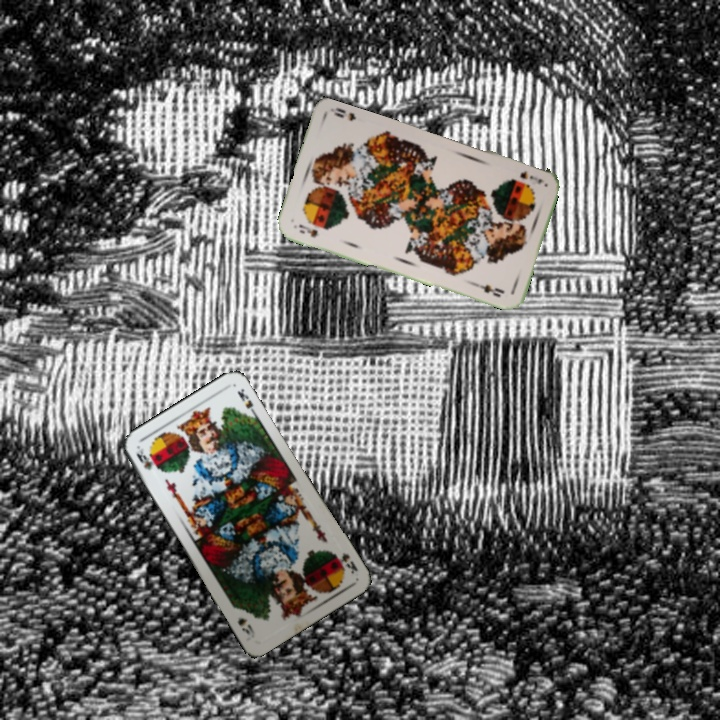SK: (330, 549, 361, 576), (132, 443, 155, 473)
SO: (516, 166, 546, 186), (295, 220, 321, 240)
